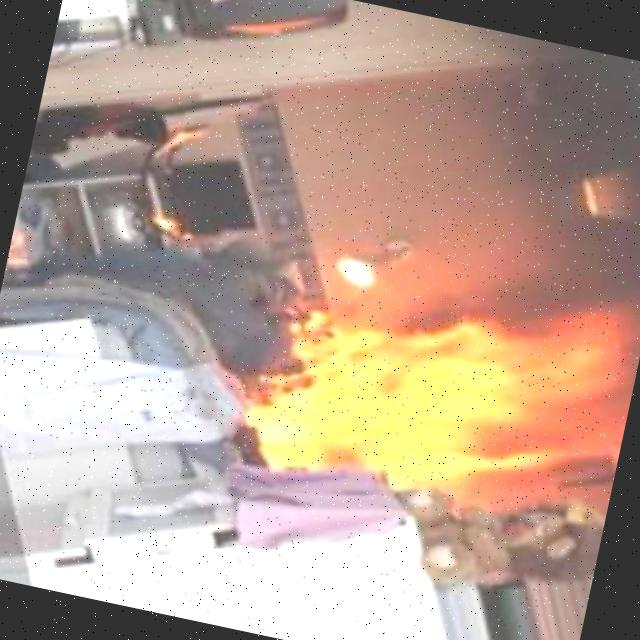fire: (235, 263, 640, 536)
